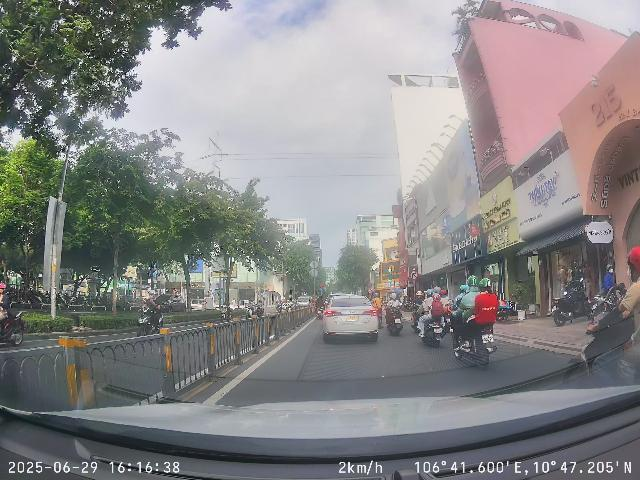123b-cam-re-phai: (409, 270, 419, 280)
